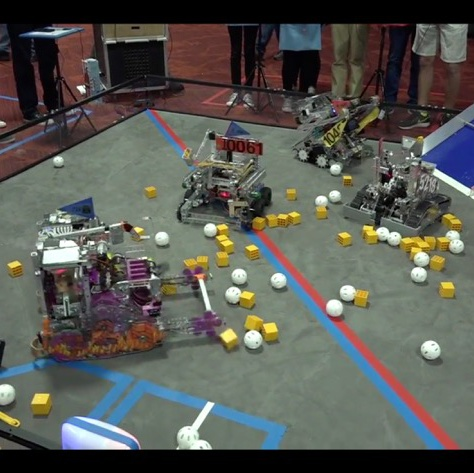robot: (28, 194, 222, 366), (340, 129, 454, 241), (173, 116, 274, 234), (294, 89, 373, 178)
